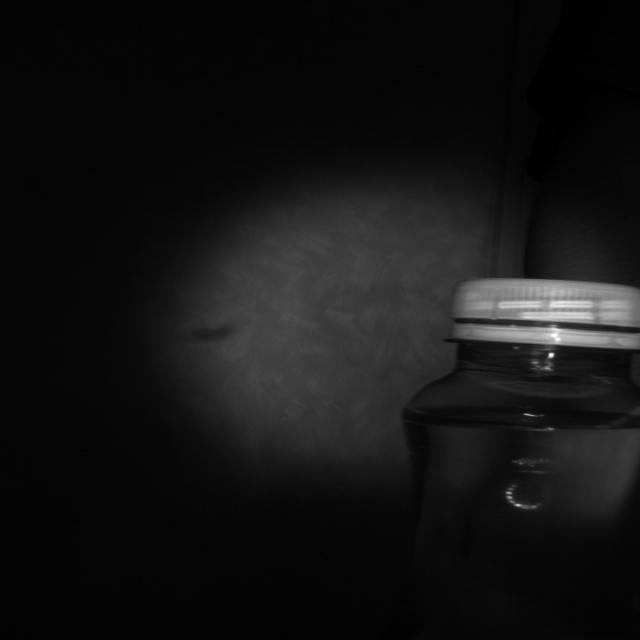Not Good: (445, 277, 640, 350)
